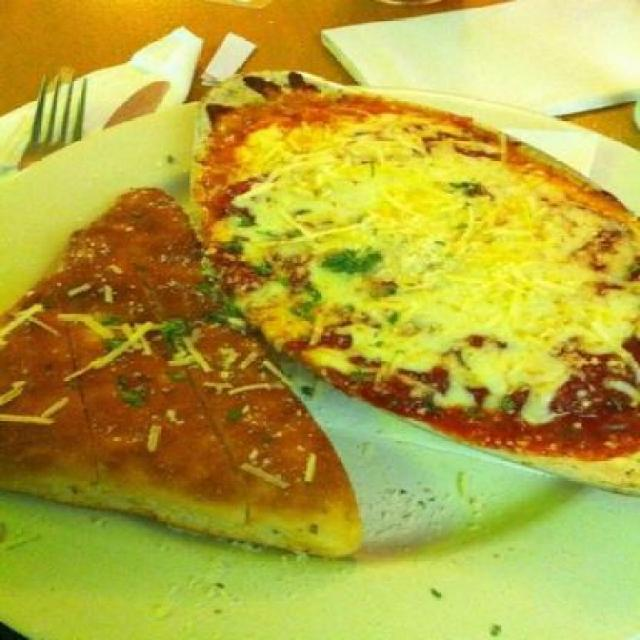Lasagna: (215, 115, 628, 428)
